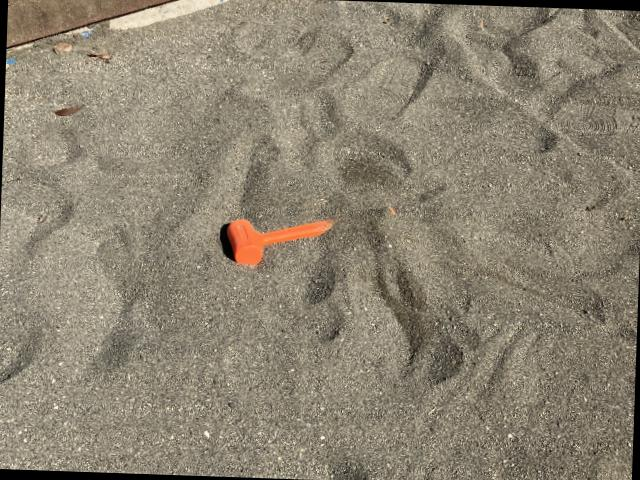hammer: (224, 196, 396, 272)
